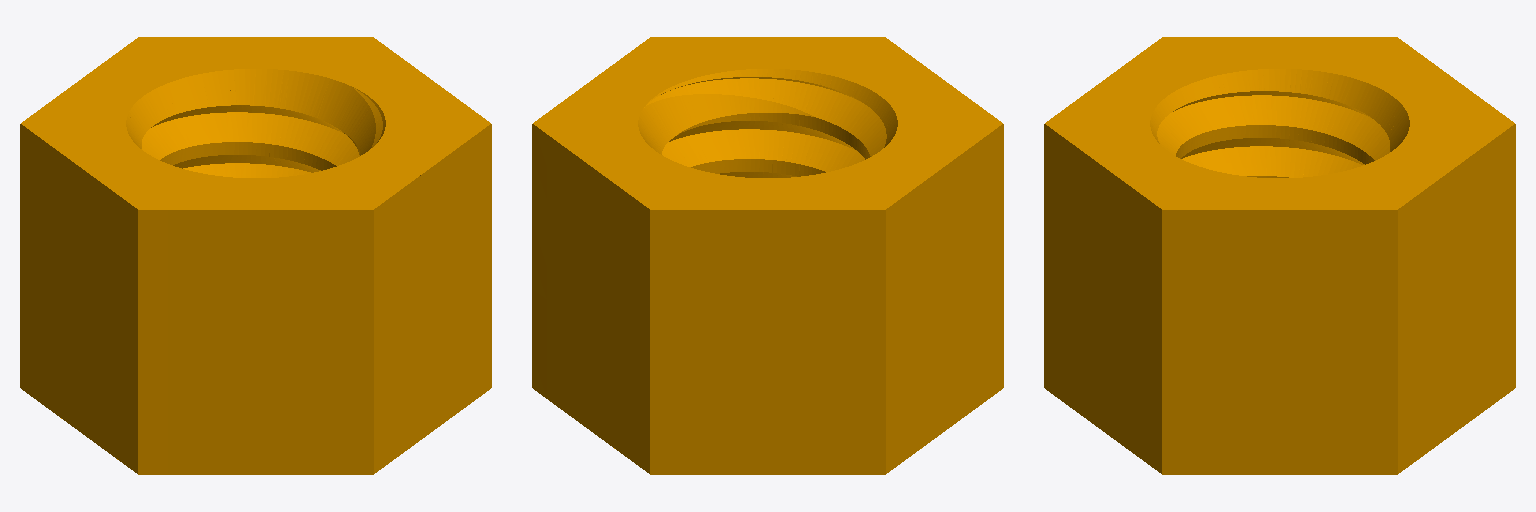
The robot description file, URDF, robot "nut1":
<?xml version="1.0"?>
<robot name="nut1">
    <link name="nut1">
        <visual>
            <geometry>
                <mesh filename="../mesh/nut/nut1.obj"/>
            </geometry>
        </visual>
        <collision>
            <geometry>
                <mesh filename="../mesh/nut/nut1.obj"/>
            </geometry>
            <sdf resolution="256"/>
        </collision>
    </link>
</robot>

--- What the picture shows (computed from the rendered views, not written in the file) ---
The picture shows the robot from 3 angles, left to right: view 1: azimuth 30°, elevation 25°; view 2: azimuth 150°, elevation 25°; view 3: azimuth 270°, elevation 25°; orthographic projection.
Robot: nut1 — 1 links, 0 joints (none); root link nut1; default pose: all joints at 0.
Links seen in each view (by area): view 1: nut1; view 2: nut1; view 3: nut1.
Link boxes in pixels (<box>): nut1: <box>20,37,491,474</box>; nut1: <box>532,37,1003,474</box>; nut1: <box>1044,37,1515,474</box>.
Size in the robot's own frame: 0.03 by 0.0346 by 0.0215 metres.
Meshes: 1 distinct files referenced, 1 mesh visuals loaded (1 OBJ).
